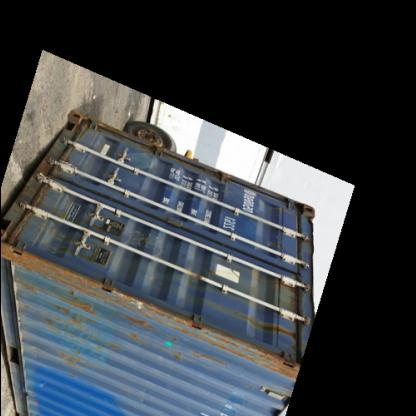Damage: (146, 308, 298, 380), (47, 300, 146, 384), (17, 251, 146, 315)
